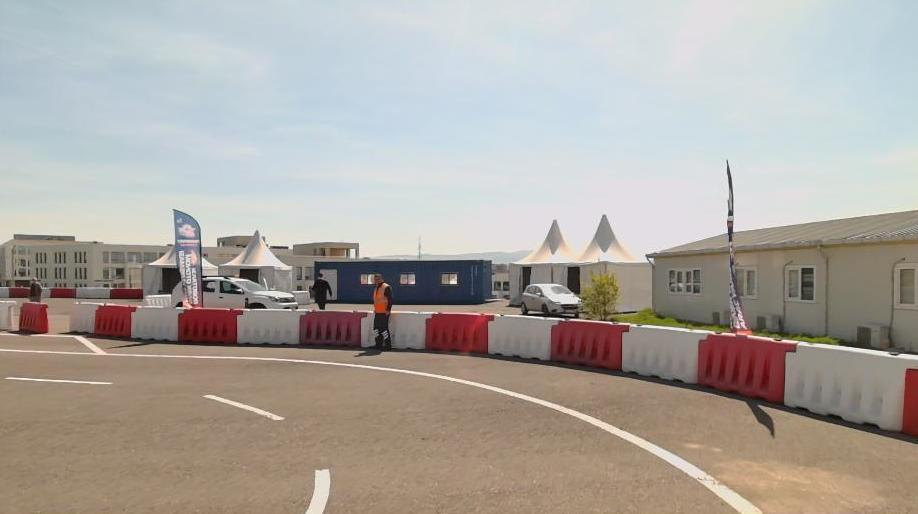nesne: (1, 345, 764, 513), (146, 67, 908, 231), (2, 348, 762, 512), (93, 9, 424, 147), (783, 340, 917, 434), (699, 330, 796, 406), (620, 323, 707, 385), (548, 318, 628, 370), (489, 313, 556, 361), (201, 276, 298, 306), (425, 311, 489, 356), (298, 310, 365, 349), (237, 308, 304, 345), (177, 306, 238, 346), (520, 283, 583, 317), (203, 393, 284, 419), (388, 308, 433, 350), (370, 272, 392, 351), (130, 305, 178, 341), (93, 303, 132, 338), (304, 468, 330, 513), (17, 300, 48, 332), (67, 301, 94, 334), (7, 376, 109, 384), (311, 271, 332, 308), (77, 285, 111, 299), (0, 300, 15, 330), (111, 287, 144, 300), (50, 287, 76, 299), (29, 276, 41, 302), (9, 286, 30, 299)
